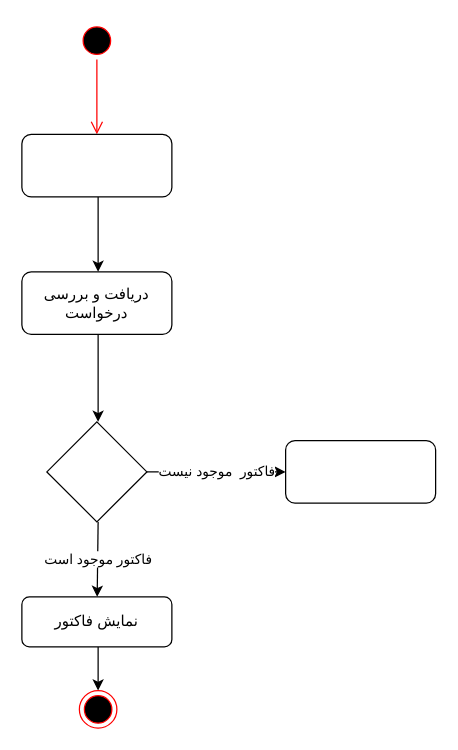
The diagram is 458 pixels wide and 750 high, and some of its shapes have lost their labels. The shapes that lost their labels are listed below. From the top down, each one's box as (x1, y1, x2, y2) in pixels, then its label:
(21, 133, 172, 197): درخواست مشتری
(284, 439, 436, 503): تکمیل فرایند خرید
